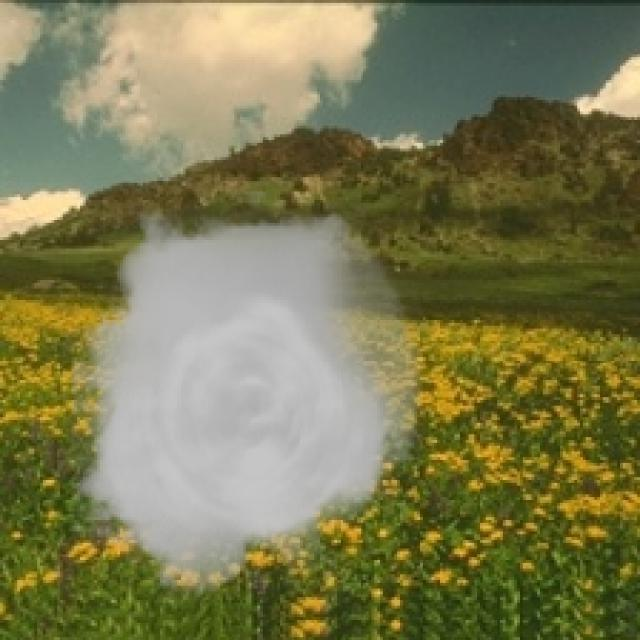smoke: (71, 192, 423, 608)
